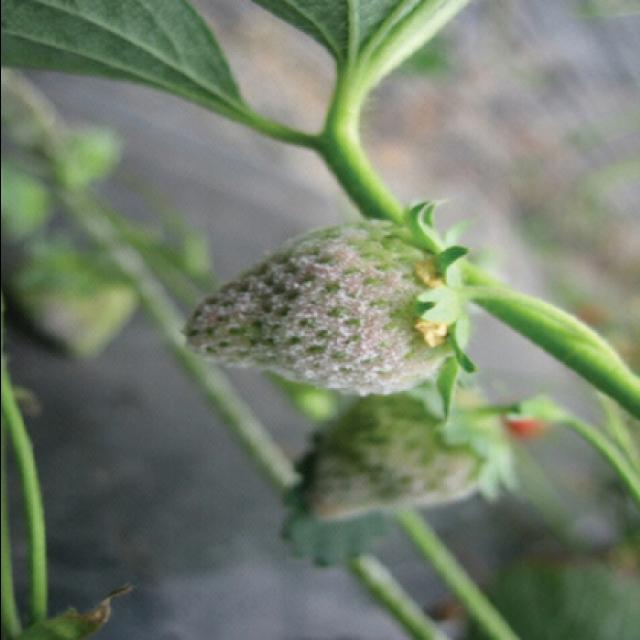Powdery Mildew Fruit: (183, 217, 469, 397), (302, 379, 501, 524)
